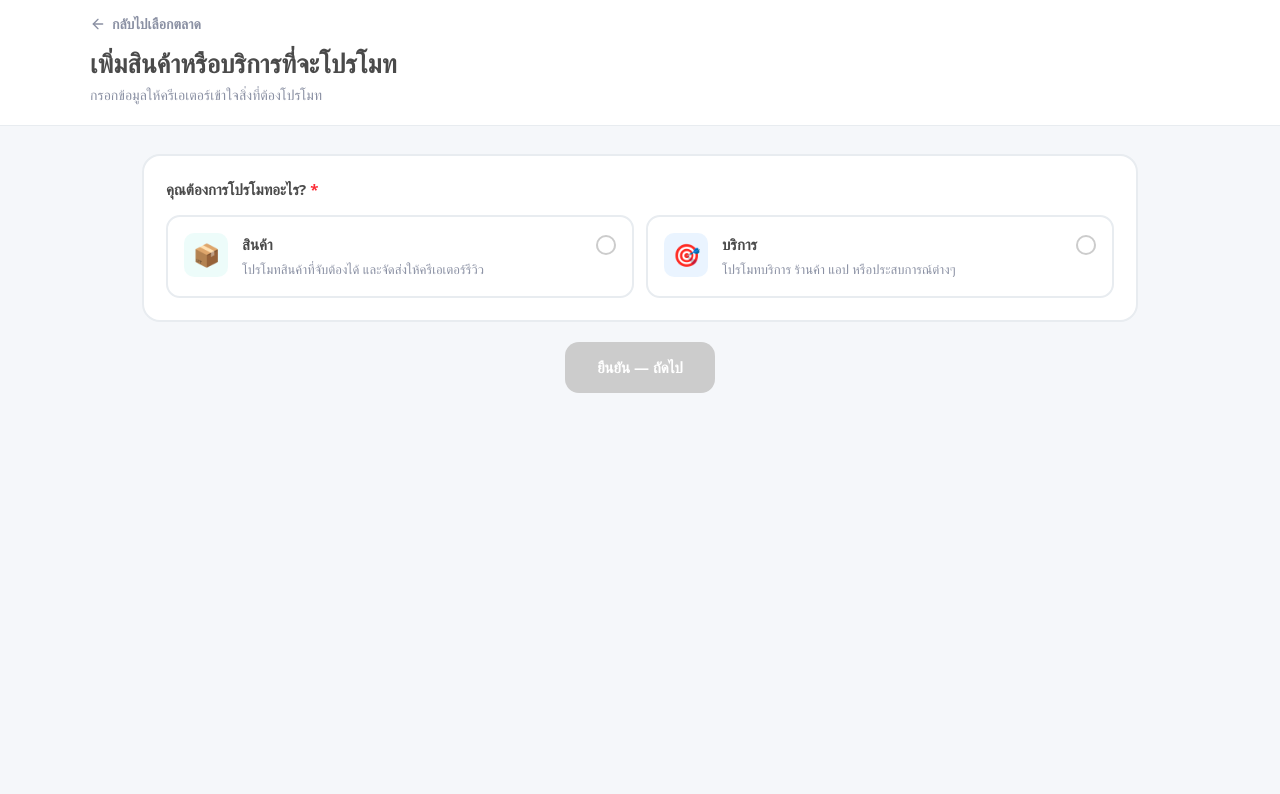
it: AddProductPage › shows product categories after clicking สินค้า
What coordinates should you click on to do the following:
click the button "สินค้า"
I would click on:
 (206, 254)
Its box is left=166, top=214, right=634, bottom=298.
(page scrolled)
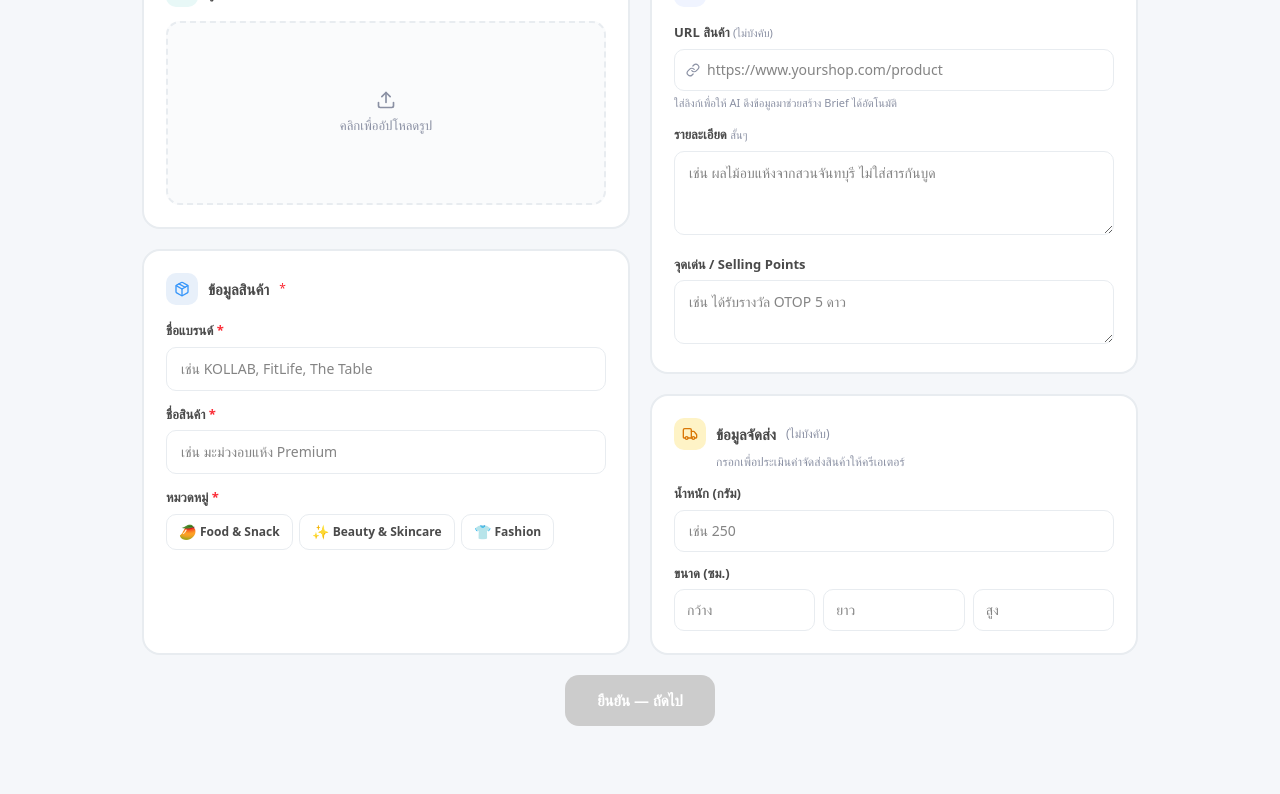
Check: the button "🥭 Food & Snack" is shown, box left=166, top=514, right=293, bottom=550
Check: the button "✨ Beauty & Skincare" is shown, box left=299, top=514, right=454, bottom=550
